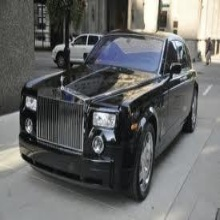no damage: (19, 27, 198, 201)
